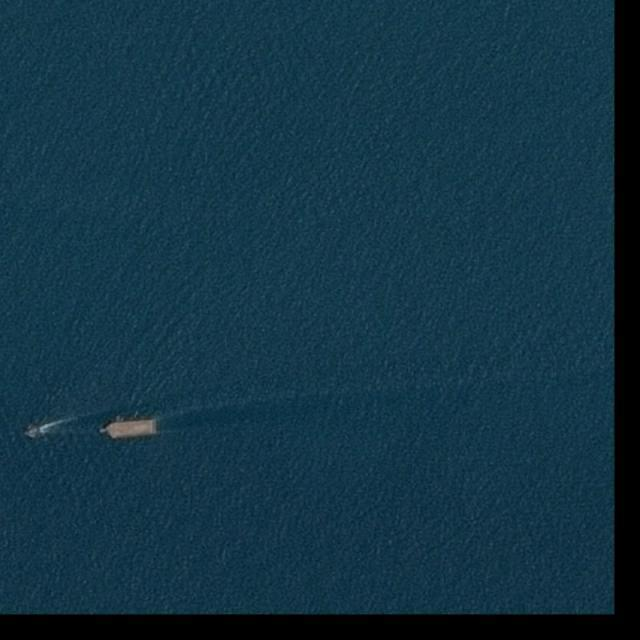ship: (100, 419, 158, 440), (25, 427, 42, 435)
